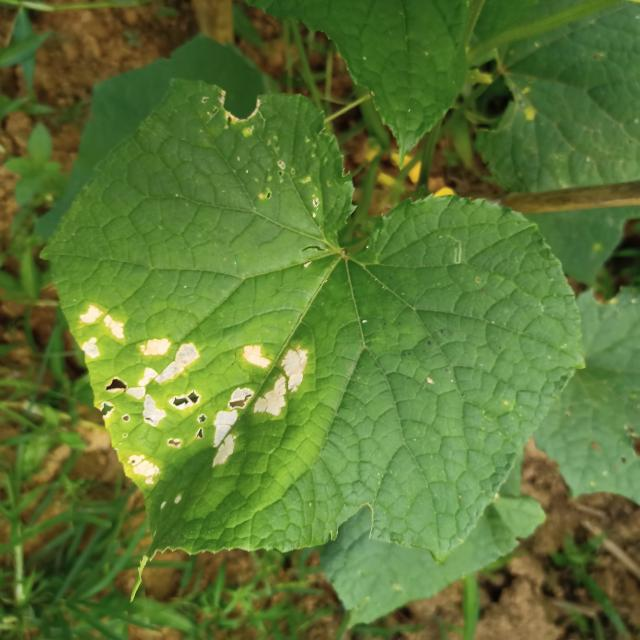disease_cucumber: (54, 304, 320, 525)
